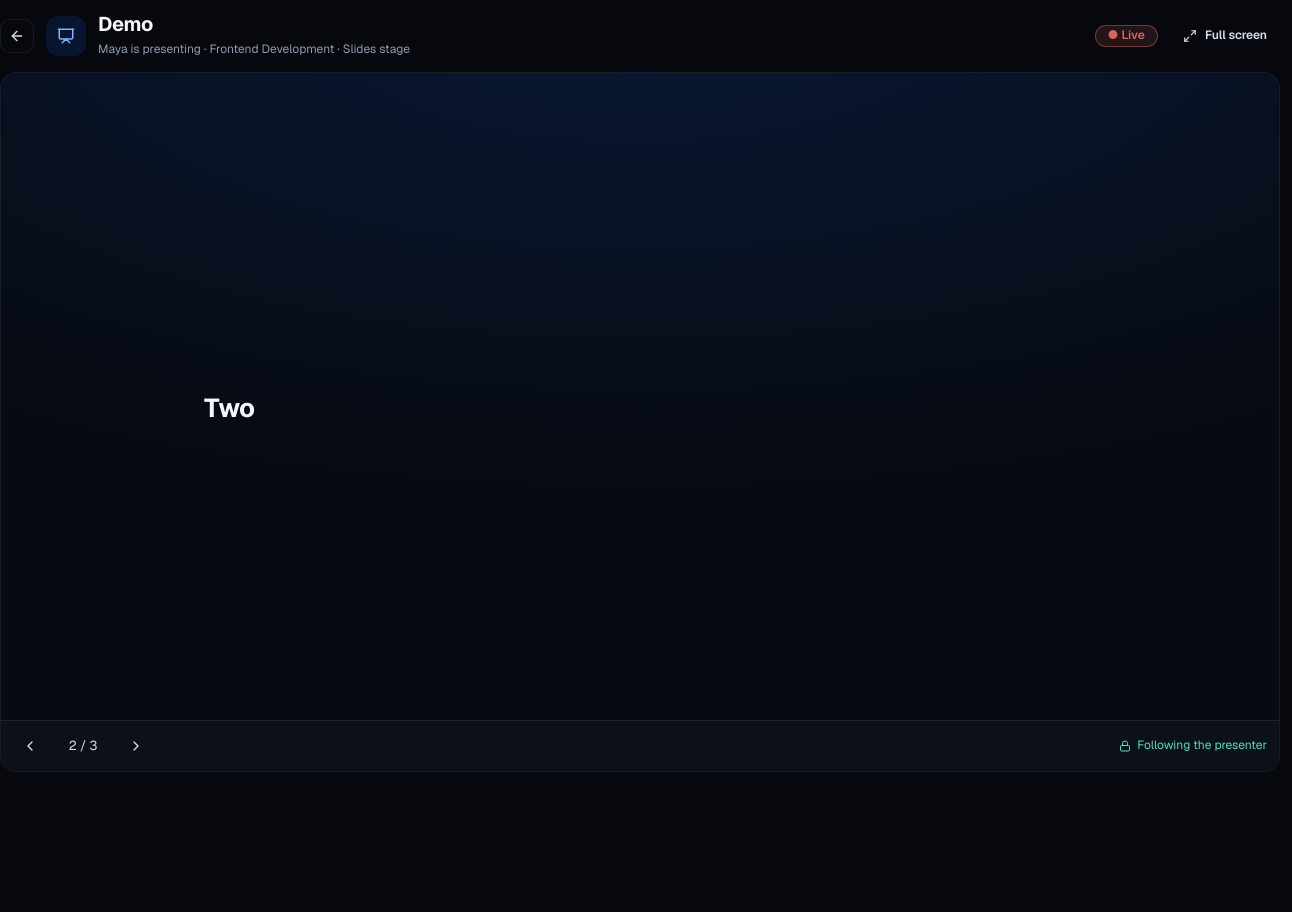
Test case: slides stage › makes a viewer follow the presenter, and lets them wander and come back
Expected: the heading "Two" is shown, [204,391,255,425]
Expected: the text "Following the presenter" is shown, [1119,736,1267,756]
Click the button named "Next slide": (136, 746) [119,729,153,763]
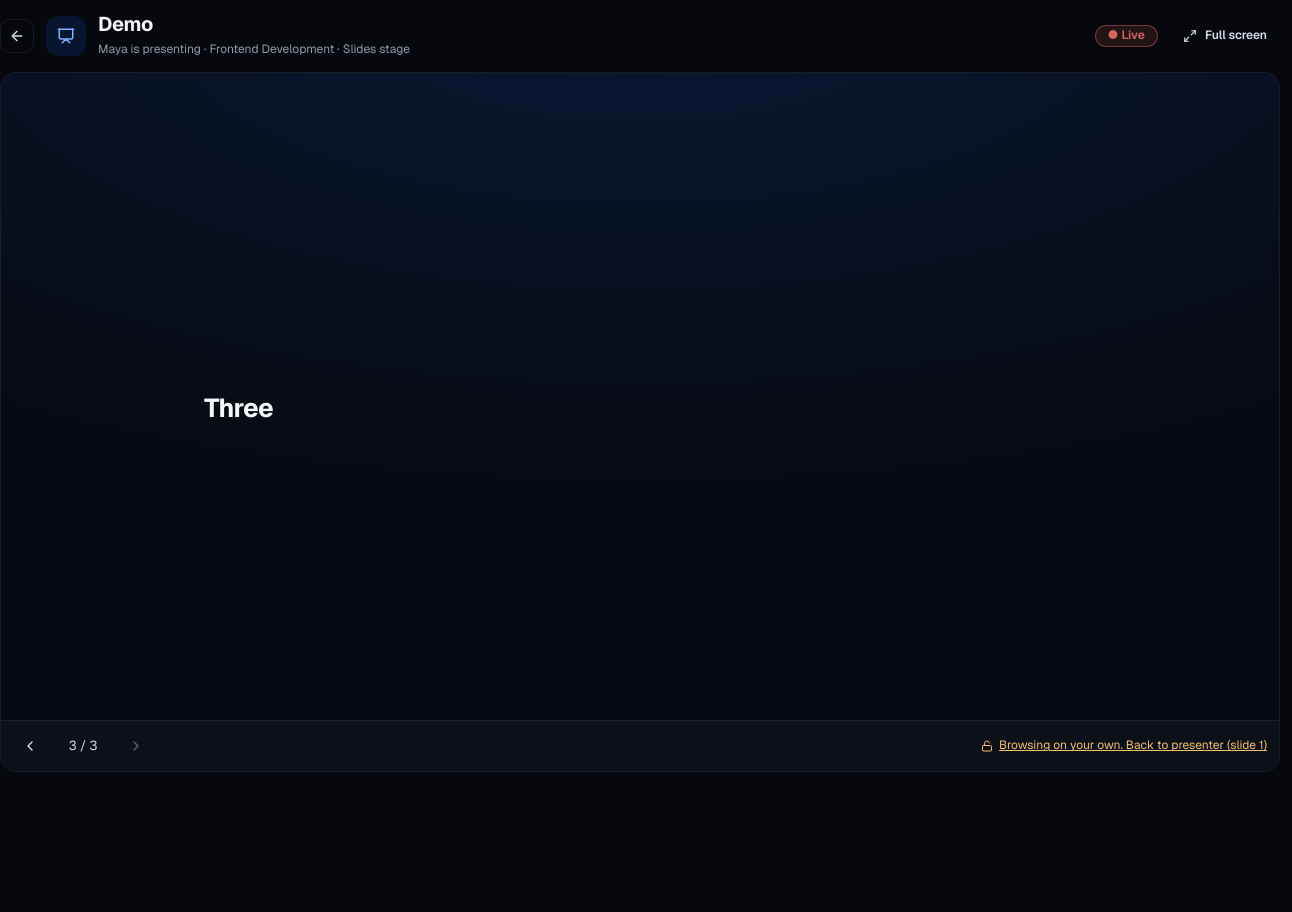
Expected: the heading "Three" is shown, [204,391,273,425]
Click the button "Browsing on your own. Back to presenter (slide 1)": (1124, 746) [981,736,1267,756]
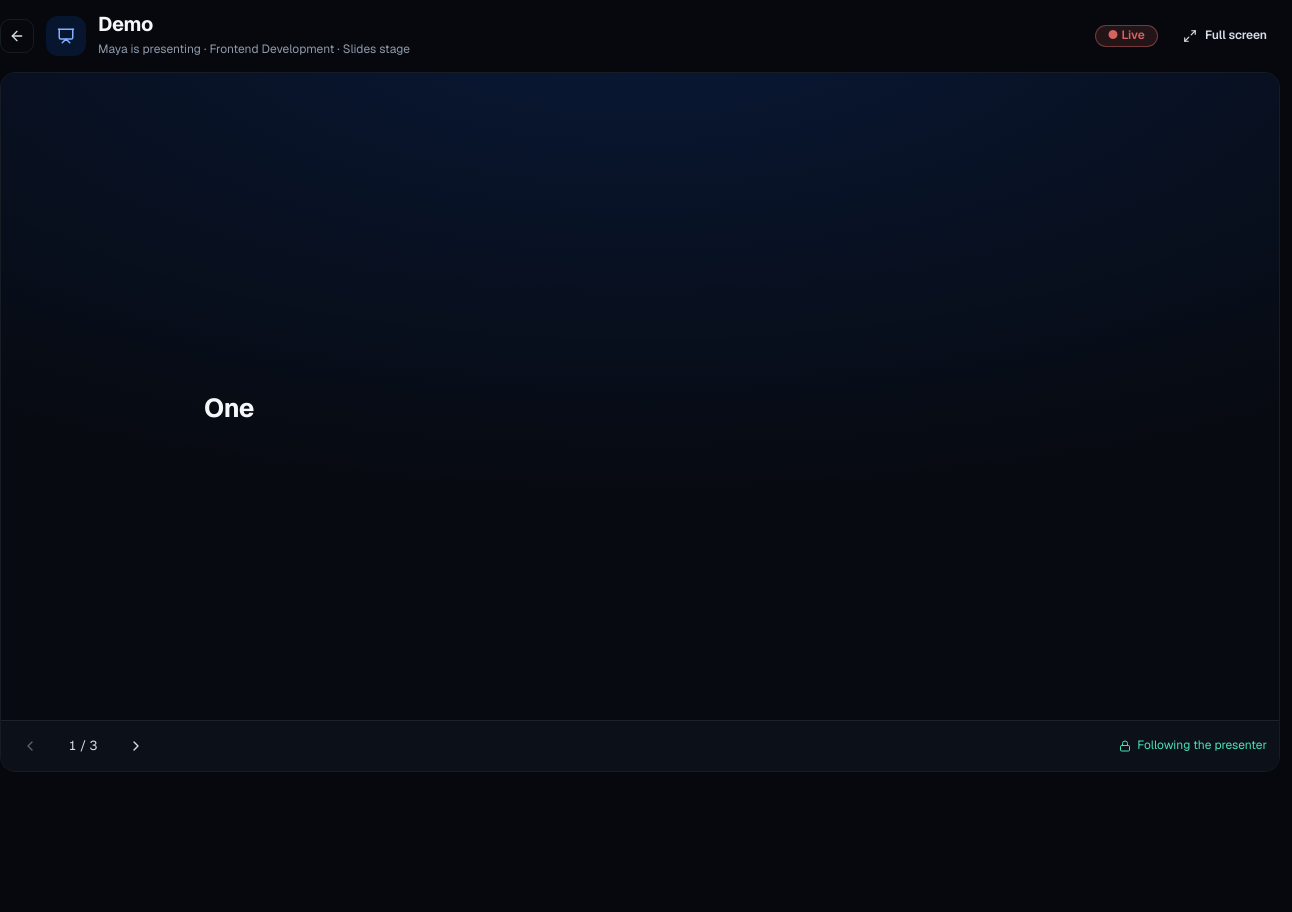
Expected: the heading "One" is shown, [204,391,254,425]
